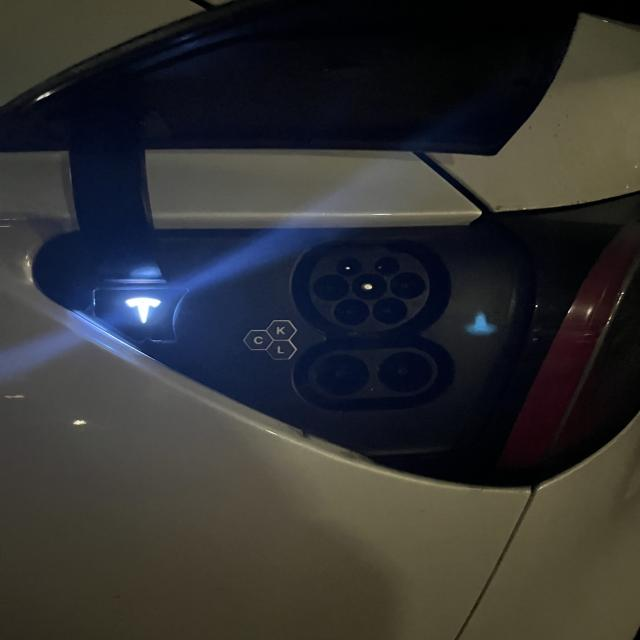inlet: (308, 253, 430, 332)
inlet-above-left: (335, 257, 362, 276)
inlet-above-right: (372, 256, 399, 275)
inlet-below-left: (332, 298, 369, 325)
inlet-below-right: (372, 297, 408, 324)
inlet-circle: (350, 273, 387, 300)
inlet-circle-left: (312, 274, 348, 300)
inlet-circle-right: (389, 271, 426, 299)
inlet-minus: (376, 352, 432, 392)
inlet-plus: (316, 354, 369, 396)
